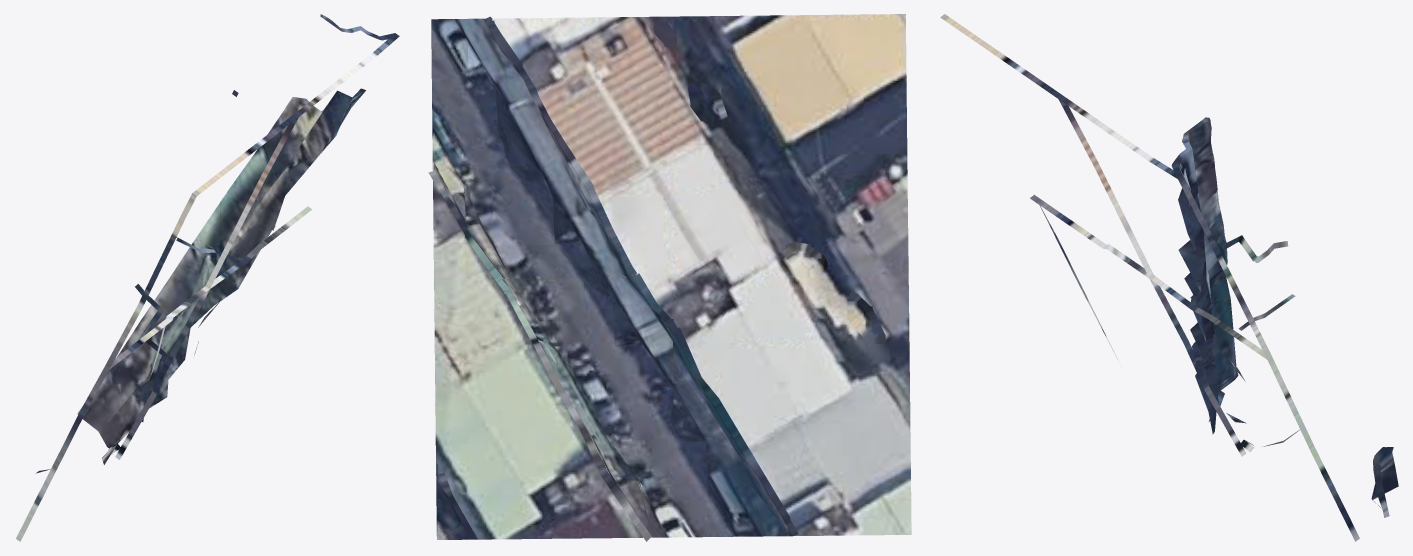
The picture shows the model from 3 angles, left to right: view 1: azimuth 30°, elevation 25°; view 2: azimuth 150°, elevation 25°; view 3: azimuth 270°, elevation 25°; orthographic projection. The views are drawn at different scales.
Bounding box in the file's own units: 38.19 × 37.1 × 35.15.
1 material, 1 textured.
